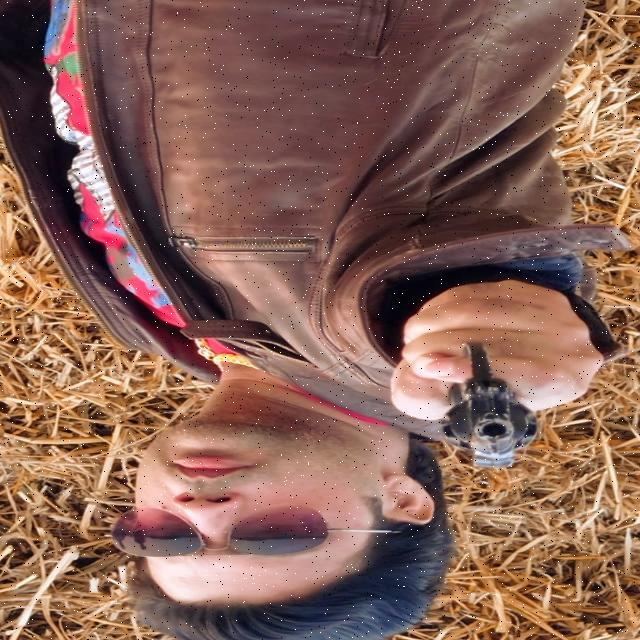gun: (428, 334, 556, 479)
